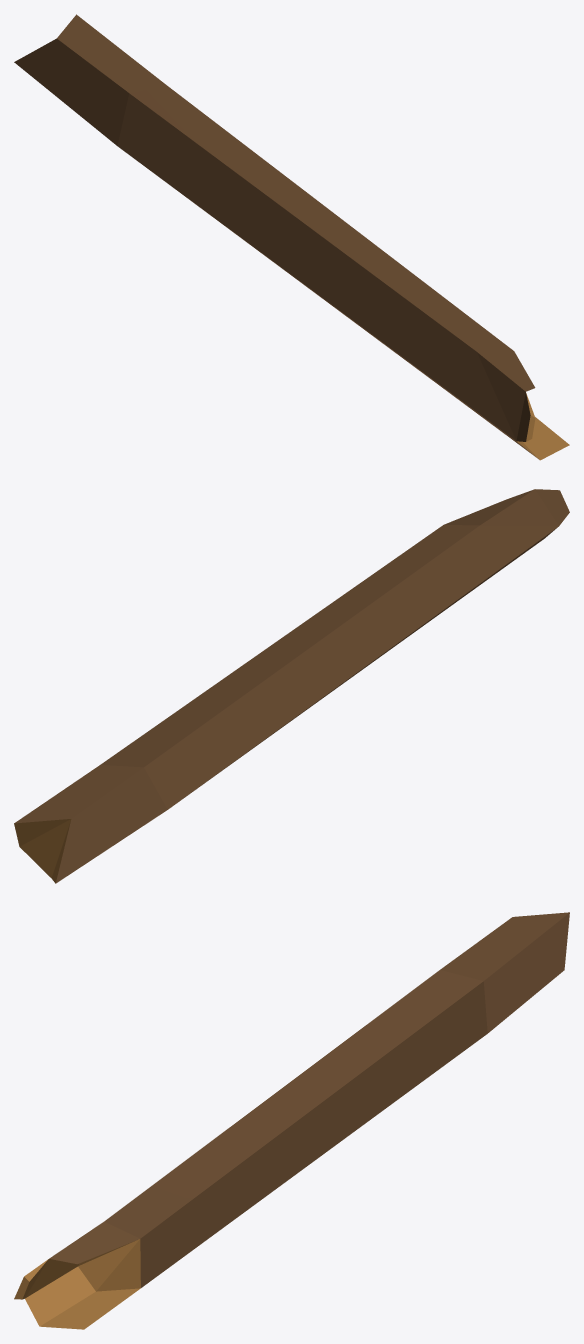
The model's file is tree-dead-log-b.glb.
3 views of the same model, one above another, from view 1: azimuth 30°, elevation 25°; view 2: azimuth 150°, elevation 25°; view 3: azimuth 330°, elevation 25° (orthographic). The views are drawn at different scales.
Parts seen in each view (by area): view 1: tree-dead-log-b; view 2: tree-dead-log-b; view 3: tree-dead-log-b.
Part boxes in pixels (x1,y1,x2,y2): tree-dead-log-b: (14, 14, 569, 460); tree-dead-log-b: (14, 489, 569, 883); tree-dead-log-b: (14, 912, 569, 1329).
Bounding box in the file's own units: 0.4286 × 0.3751 × 5.14.
